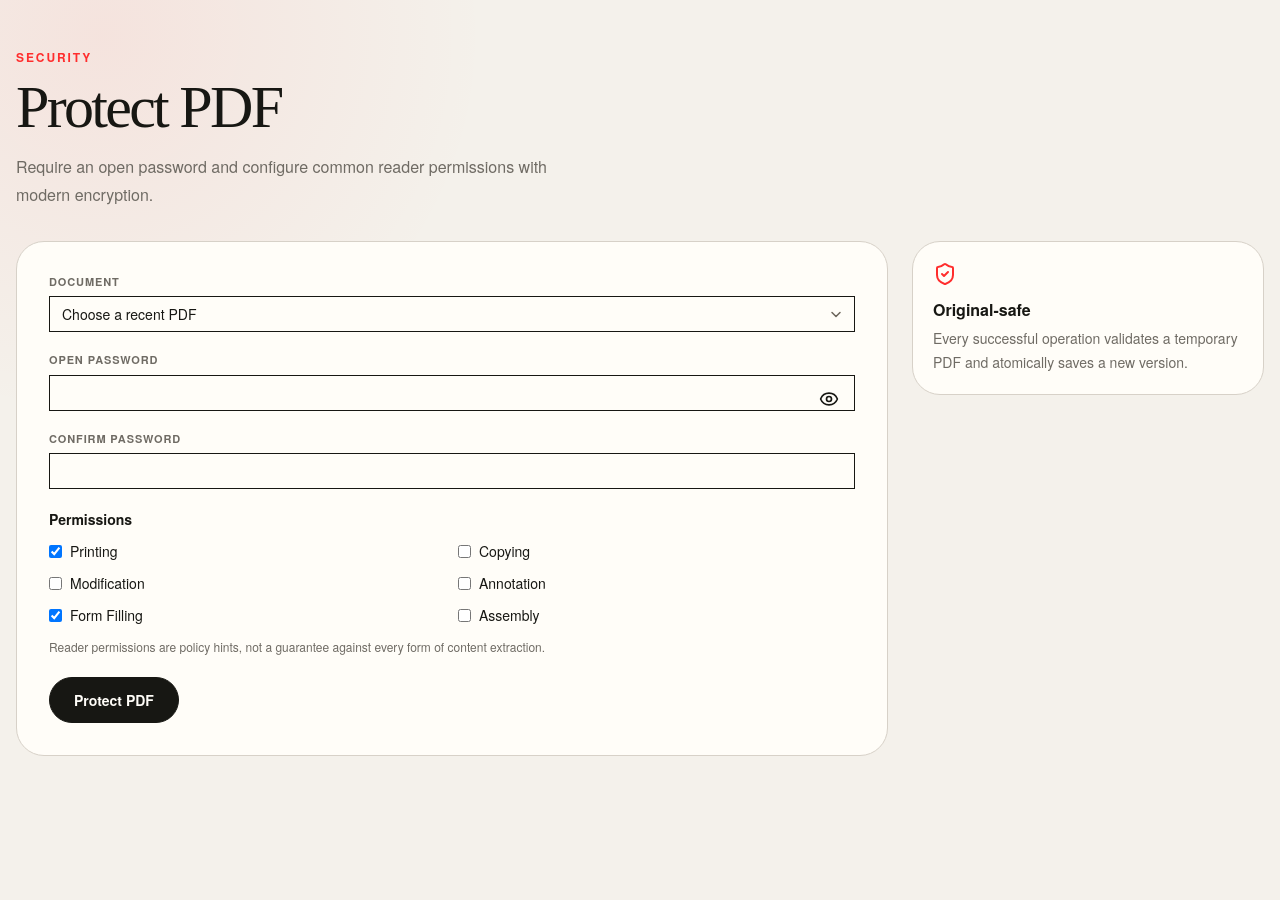
Test: Phase 1 tool workflows › associates protect password validation and prevents duplicate submission
The width and height of the screenshot is (1280, 900).
Step 1. Select "report.pdf" in the dropdown labelled "Document" → point(452, 314), box x1=49 y1=296 x2=855 y2=332
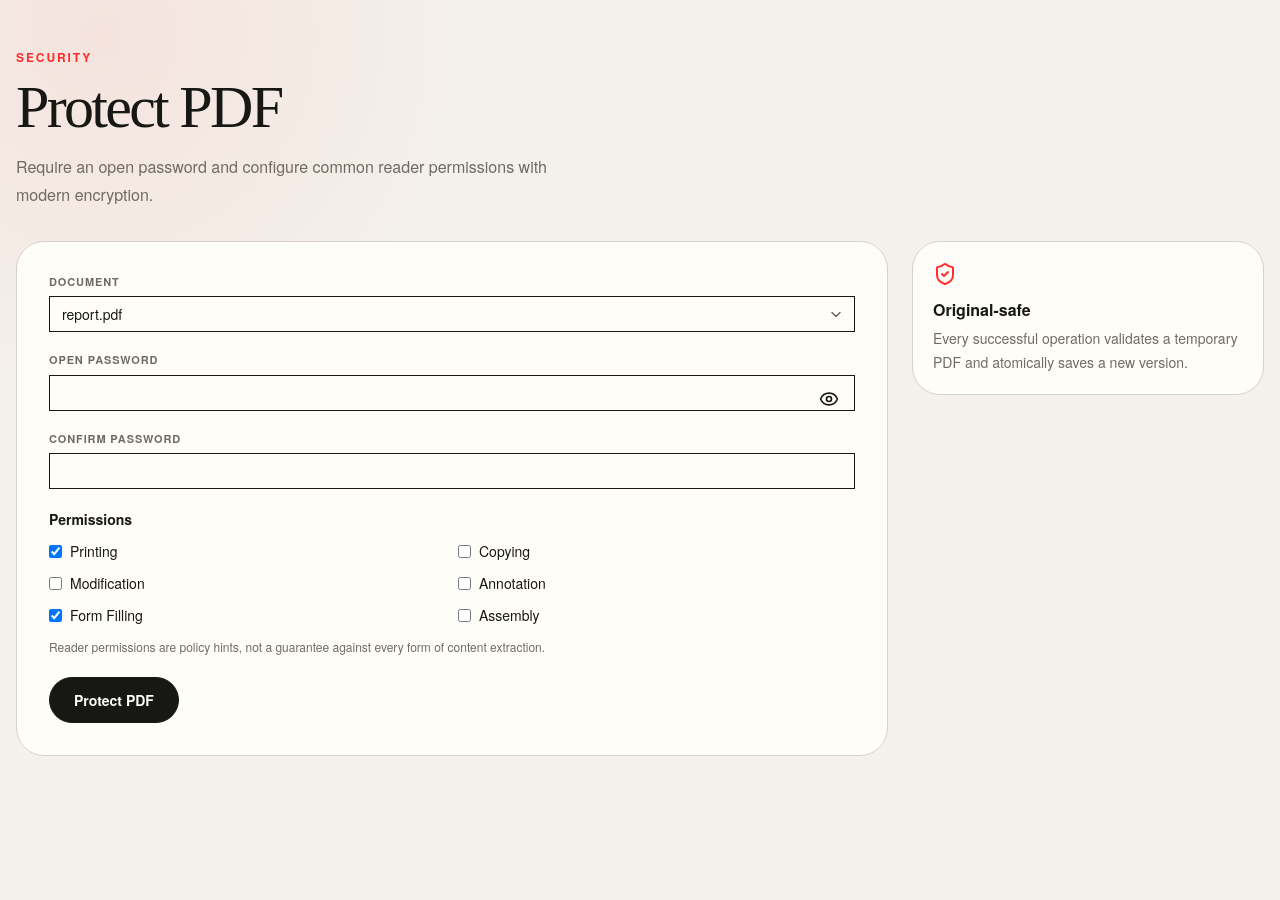
Step 2. Type "secret" into the password field labelled "Open password" → point(452, 393), box x1=49 y1=375 x2=855 y2=411
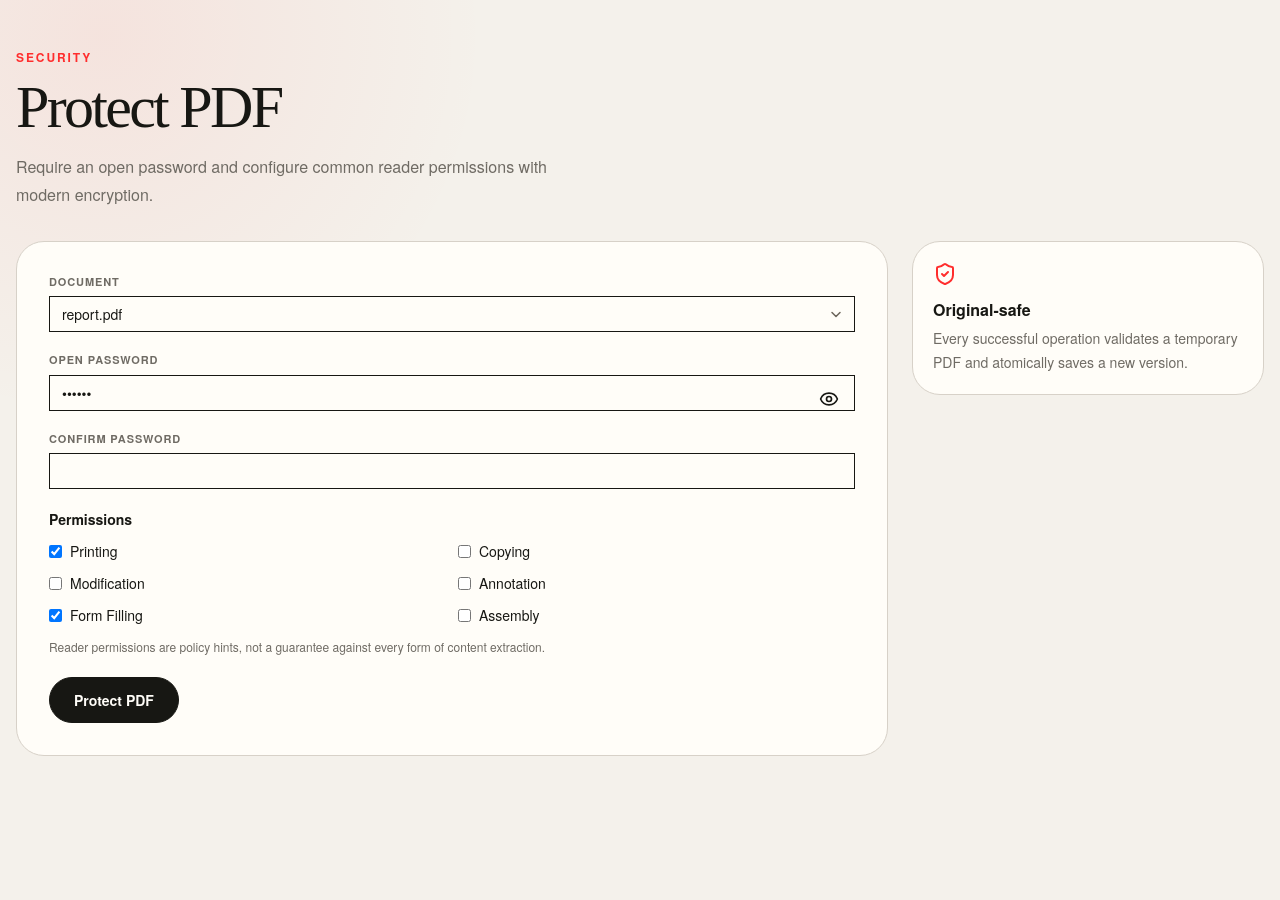
Step 3. Type "different" into the password field labelled "Confirm password" → point(452, 471), box x1=49 y1=453 x2=855 y2=489
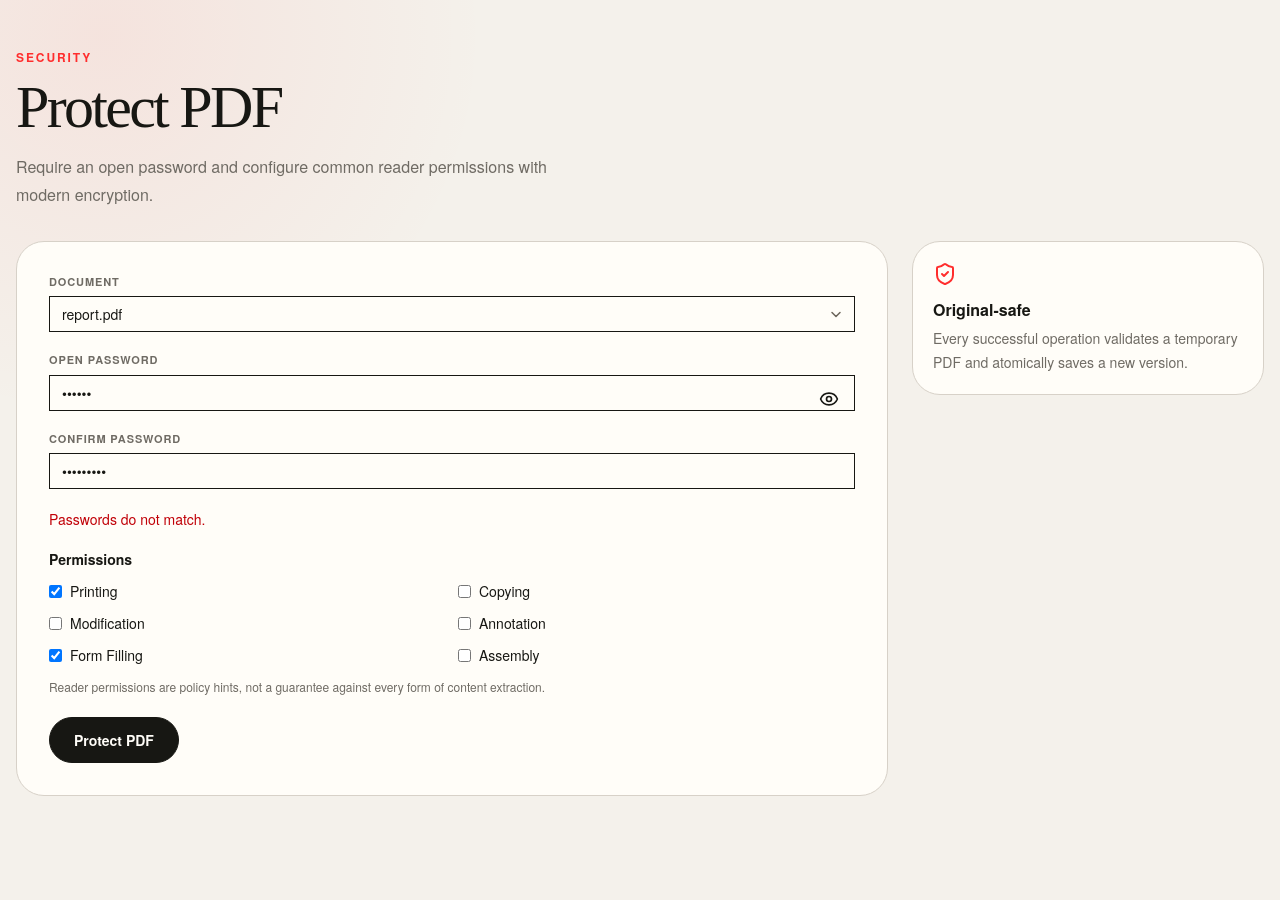
Expected: the button "Protect PDF" is disabled, x1=49 y1=717 x2=179 y2=763
Now the message shows "Passwords do not match", box x1=49 y1=509 x2=206 y2=529
Step 4. Type "secret" into the password field labelled "Confirm password" → point(452, 471), box x1=49 y1=453 x2=855 y2=489
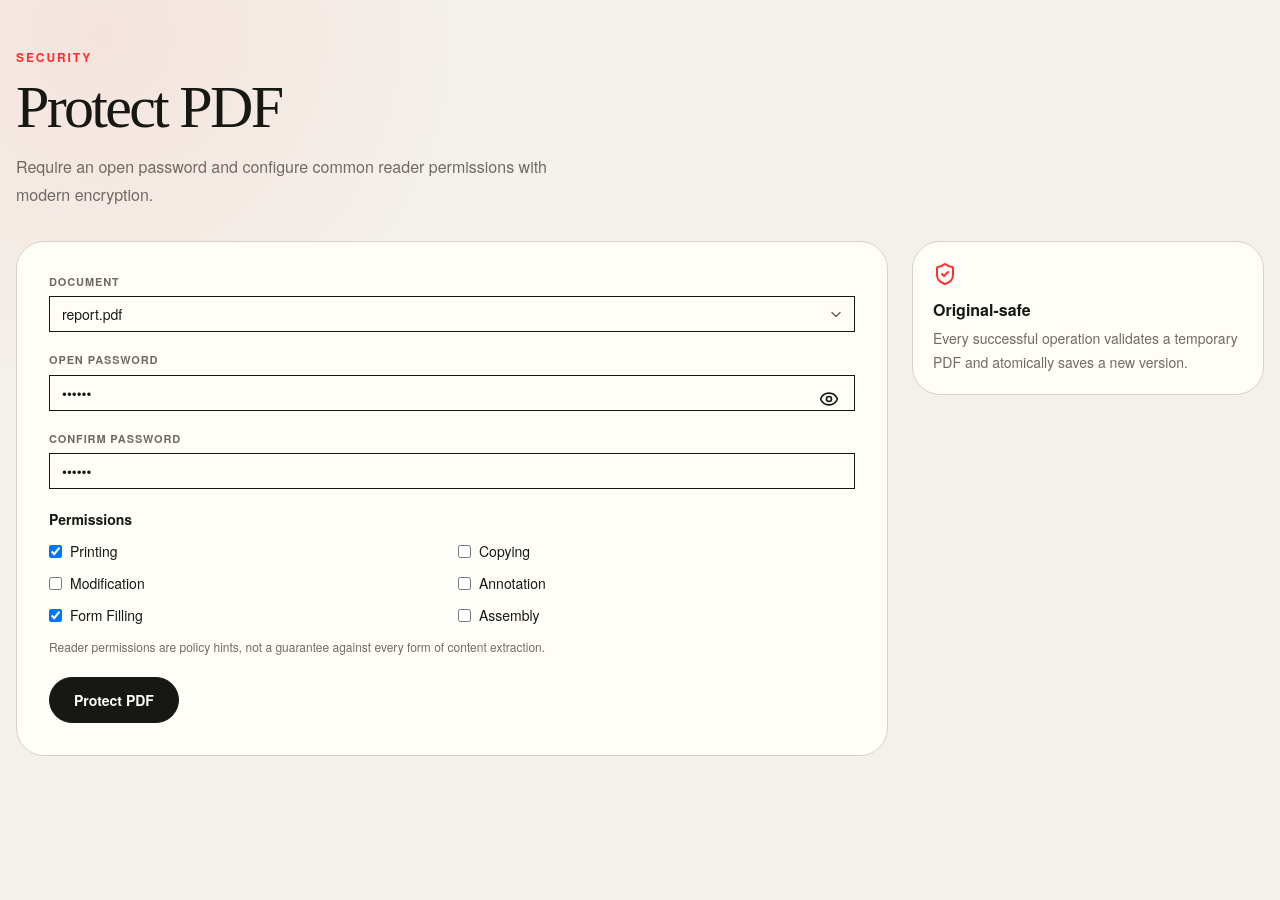
Now the button "Protect PDF" is enabled
Step 5. Click the button "Protect PDF" → point(114, 700), box x1=49 y1=677 x2=179 y2=723
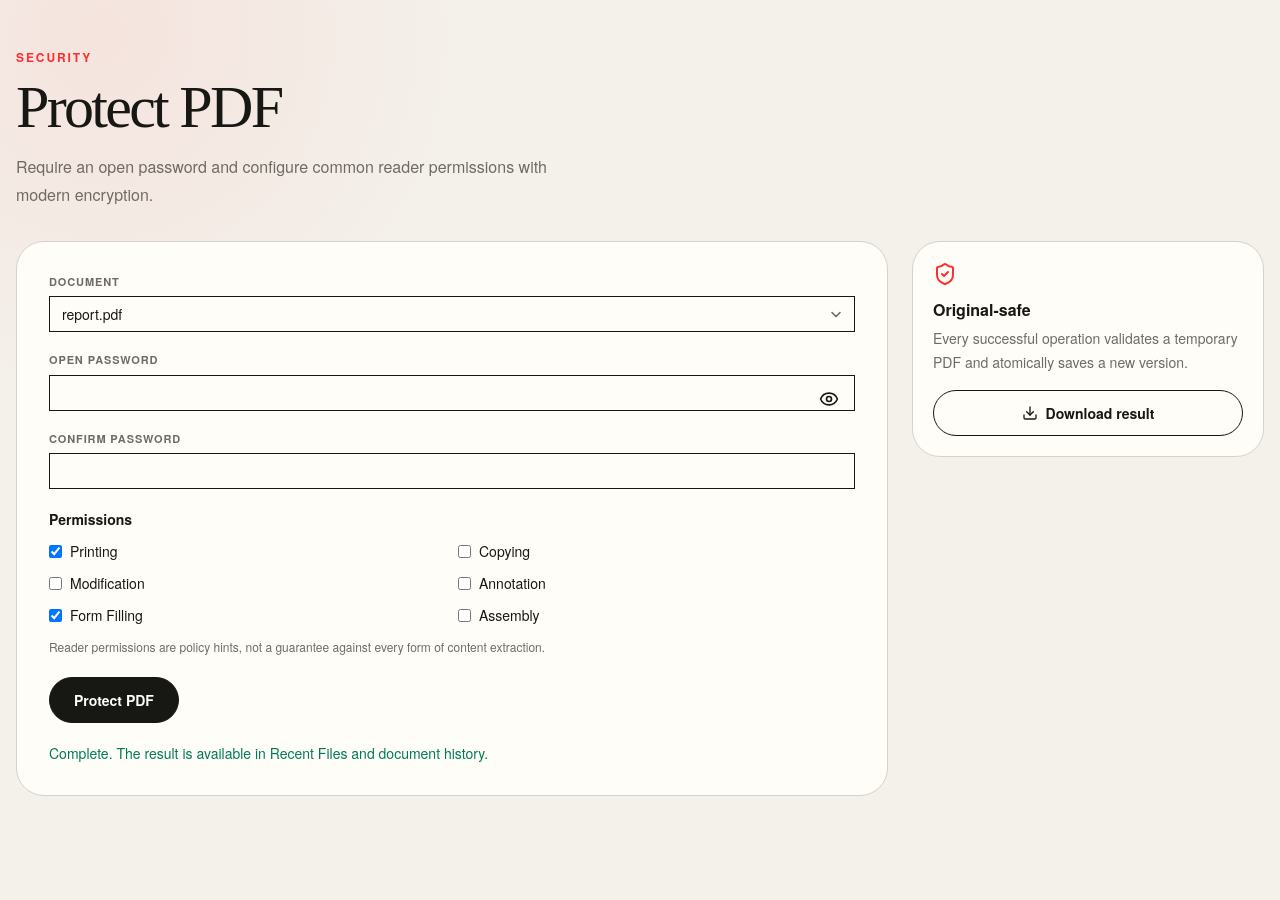
Now the text "Complete. The result is available in Recent Files and document history." is shown, box x1=49 y1=743 x2=488 y2=763
